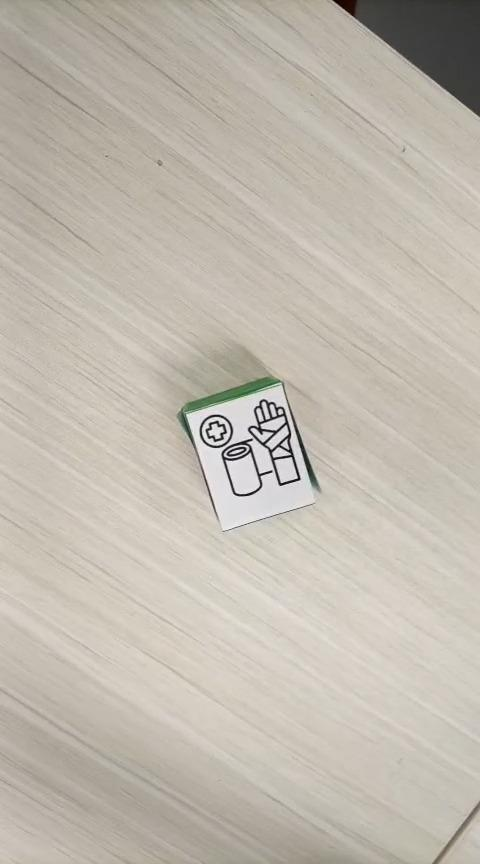Bandages: (179, 375, 318, 532)
